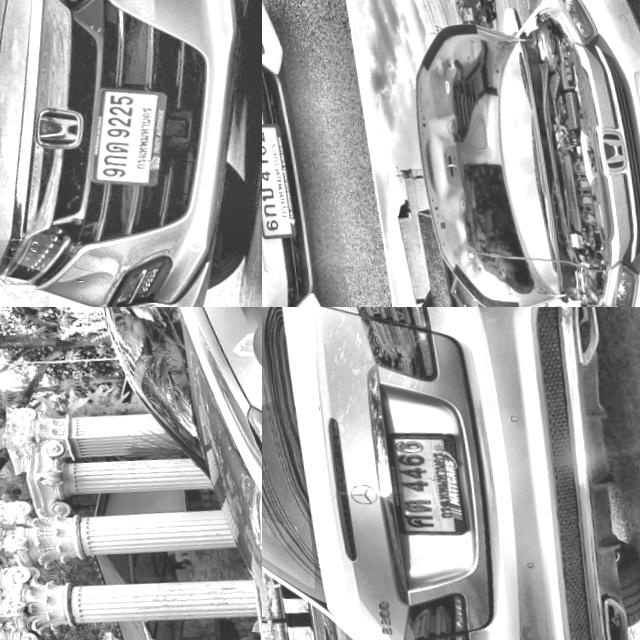license-plate: (60, 72, 187, 191), (378, 424, 470, 535), (262, 117, 298, 240)
